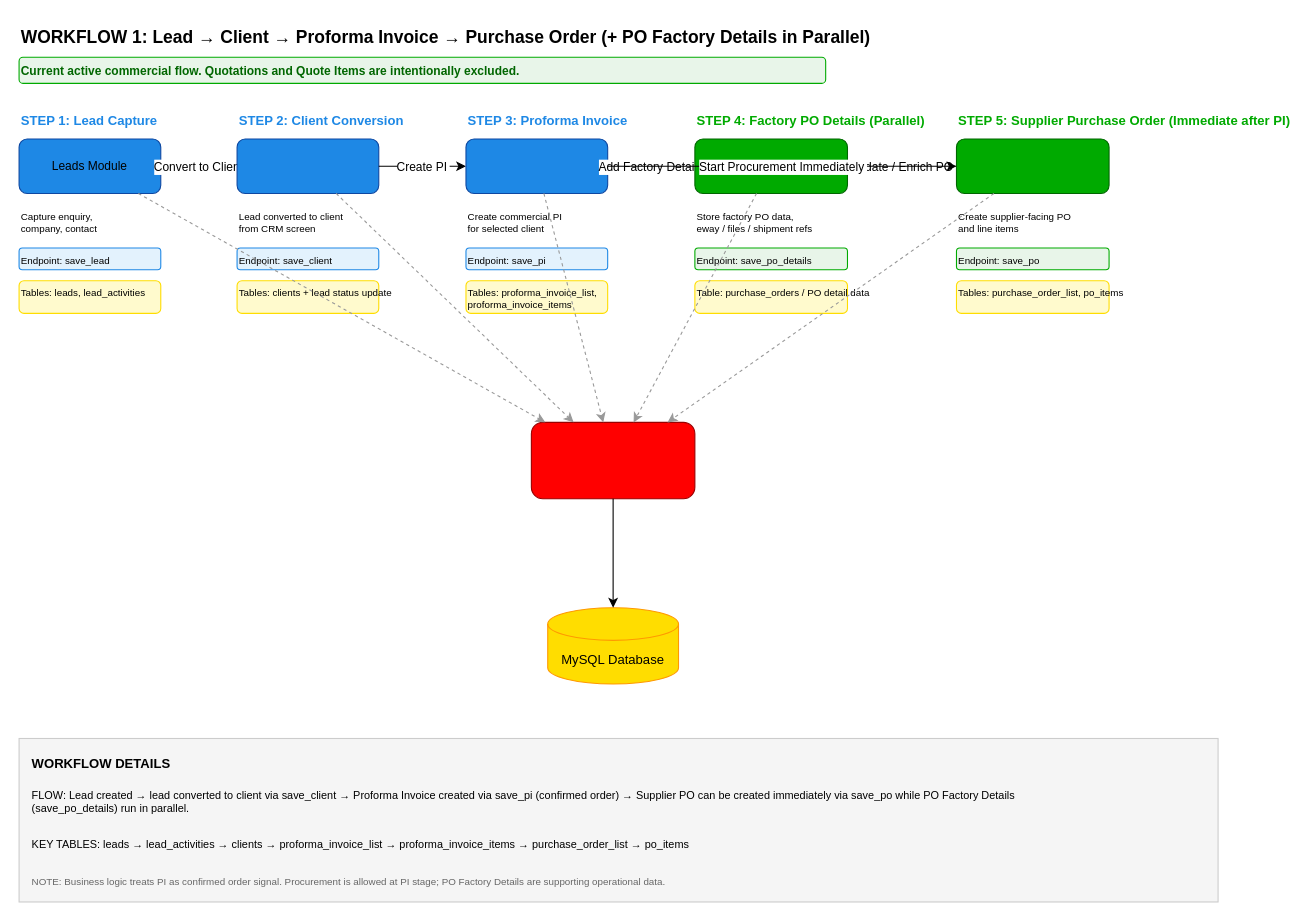
Some shapes in this 1310 by 921 pixel diagram are drawn without their labels. Here are the shapes that lost their labels. From the top down, the centre of each, then its label:
(x=307, y=165): Clients Module
(x=536, y=165): Proforma Invoice
(x=1032, y=165): Purchase Order
(x=612, y=460): Master.php (AJAX Hub)
